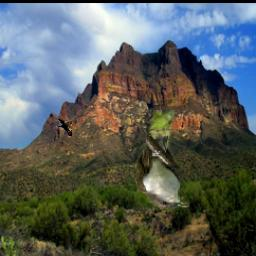Cuckoo: (136, 110, 190, 213)
Swallow: (49, 118, 72, 136)
